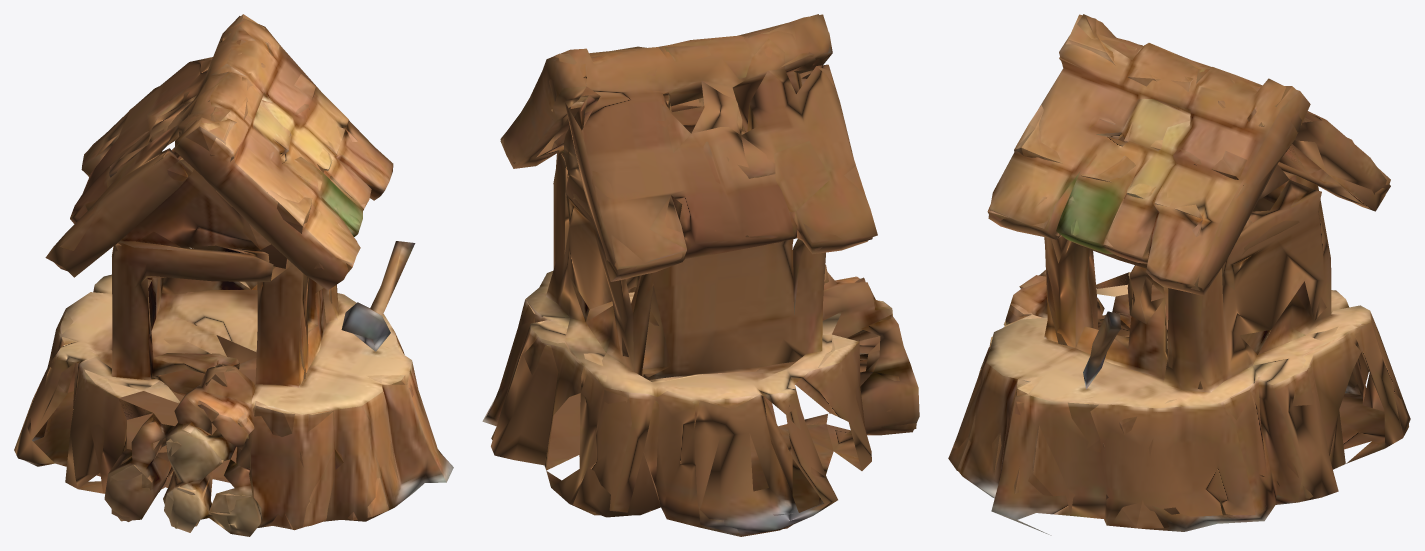
Rendered from woodcutter.glb.
3 renders of one model, left to right at view 1: azimuth 30°, elevation 25°; view 2: azimuth 150°, elevation 25°; view 3: azimuth 270°, elevation 25°, orthographic. The views are drawn at different scales.
Visible parts, largest first — view 1: level; view 2: level; view 3: level.
Boxes of the visible parts, x1,y1,x2,y2 form: level: (14, 14, 453, 536); level: (482, 14, 919, 536); level: (948, 14, 1410, 535).
Size of the model in its own units: 0.7477 by 0.7917 by 0.8099.
1 material, 1 textured.
